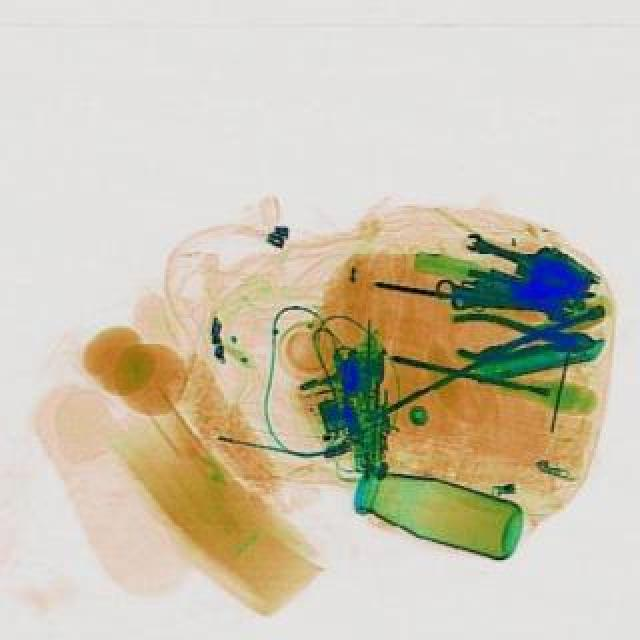scissors: (464, 228, 538, 268)
wrench: (454, 310, 600, 368)
